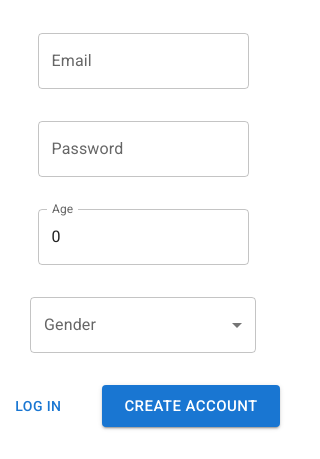
Scenario: RegisterPage › displays email taken error
Type "email@asd" into the field labelled "Email" at coordinates (143, 61), box [38,33,248,89]
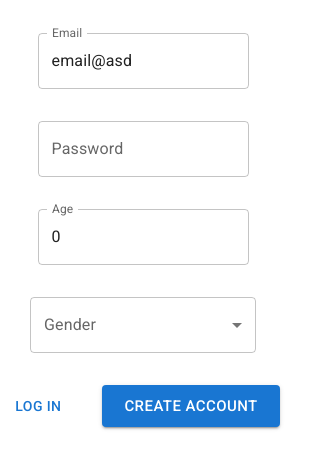
Type "password" into the password field labelled "Password" at coordinates (143, 149), box [38,121,248,177]
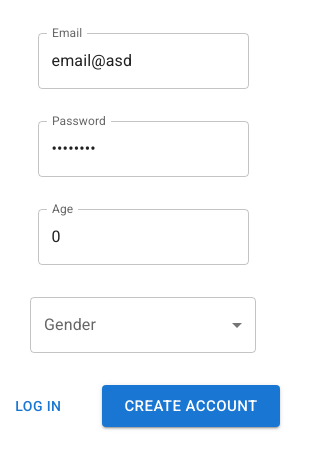
Replace the text in the number field labelled "Age" with "21" at coordinates (143, 237), box [38,209,248,265]
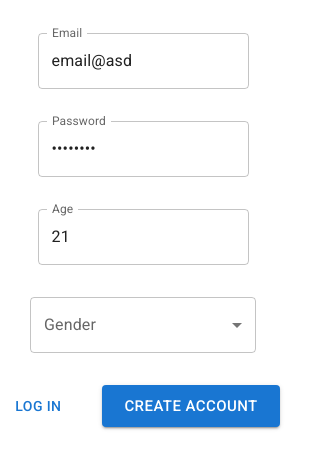
Replace the text in the field with test id "register-gender-input" with "male" at coordinates (143, 325), box [30,297,256,353]
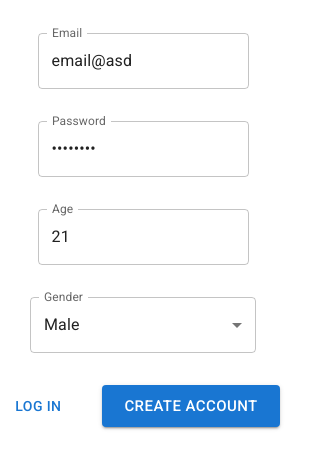
Click the button with test id "register-create-account-button" at coordinates (191, 406), box [102,385,280,427]
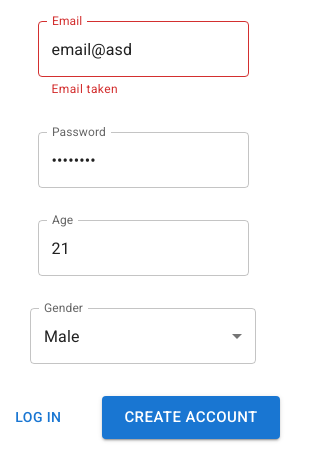
Expected: the text "Email taken" is shown, [52,82,118,96]
